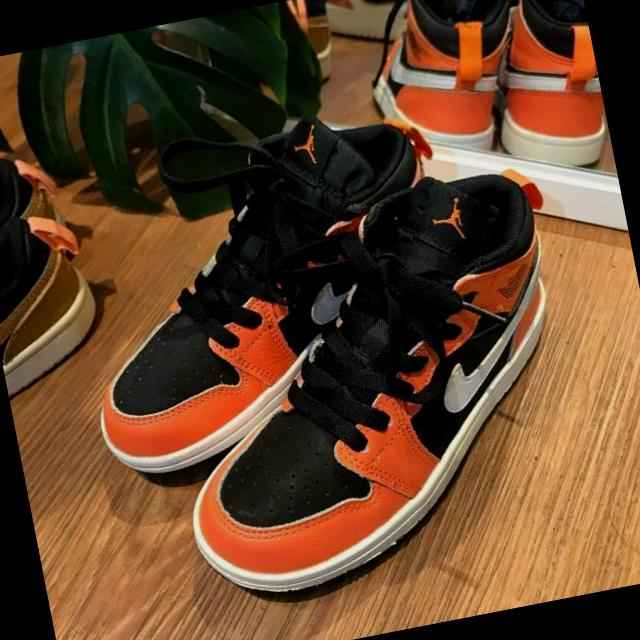nike_fake_jordan: (134, 159, 600, 615), (40, 96, 478, 487)
